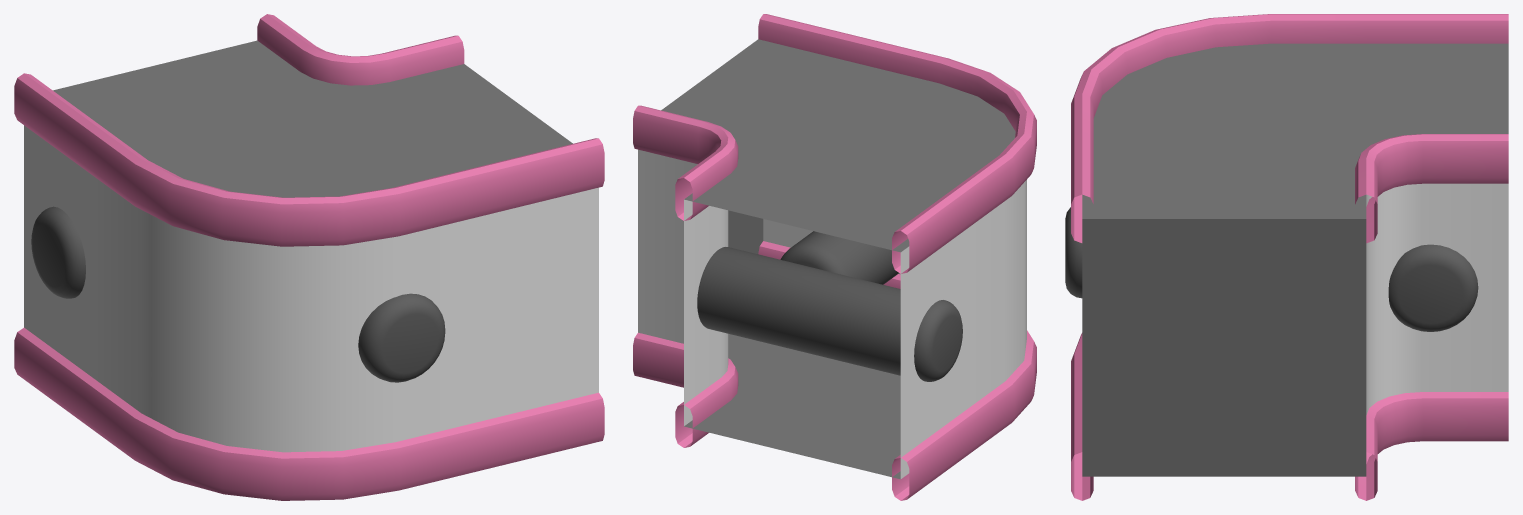
File: parca12.fbx
3 views of the same model, side by side, from view 1: azimuth 30°, elevation 25°; view 2: azimuth 150°, elevation 25°; view 3: azimuth 270°, elevation 25° (orthographic). The views are drawn at different scales.
Visible parts, largest first — view 1: 12; view 2: 12; view 3: 12.
Boxes of the visible parts, x1,y1,x2,y2 form: 12: (14, 14, 604, 500); 12: (633, 14, 1036, 500); 12: (1065, 14, 1508, 500).
Bounding box in the file's own units: 3.11 × 2.38 × 3.12.
